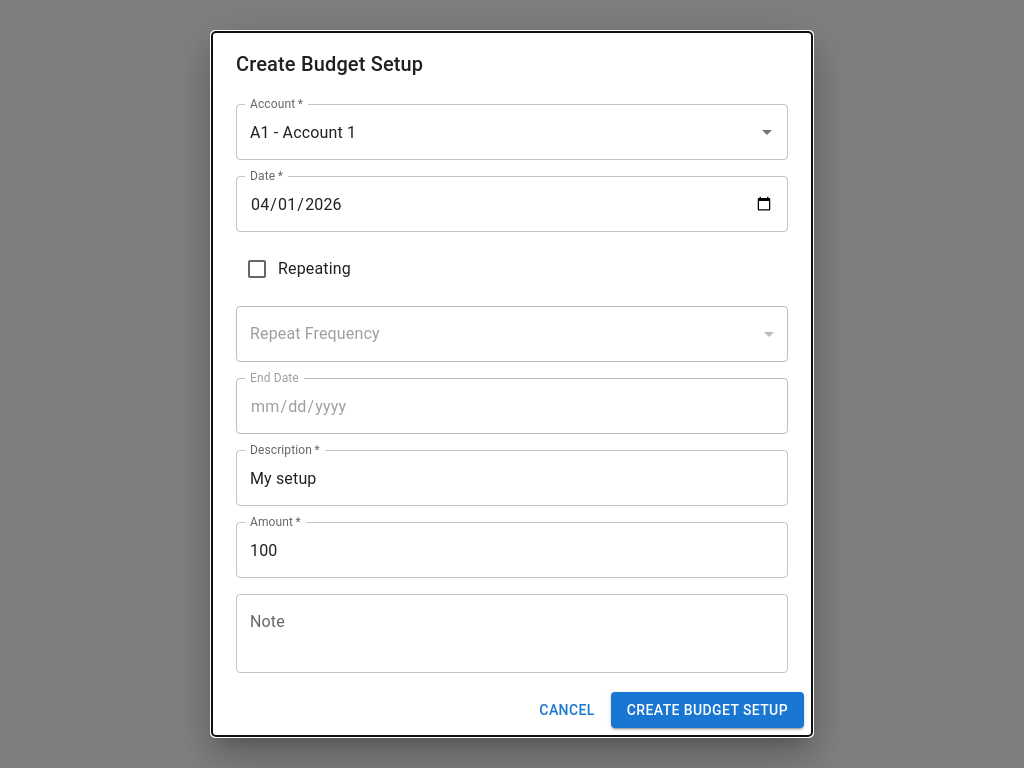
BudgetSetupFormDialog › disables end date when not repeating and enables when toggled
This screenshot has width=1024, height=768.
Expected: the date field labelled "End Date" is disabled, [236, 378, 788, 434]
Click the checkbox labelled "Repeating": point(298, 269) [245, 257, 351, 281]
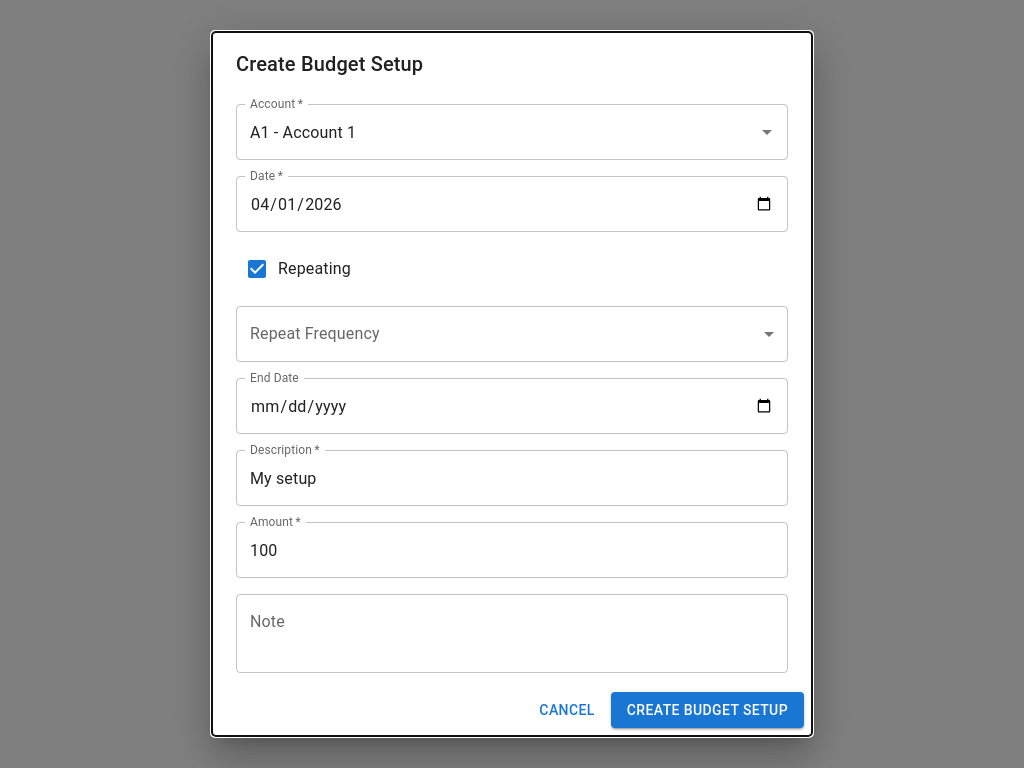
Expected: the date field labelled "End Date" is enabled, [236, 378, 788, 434]
